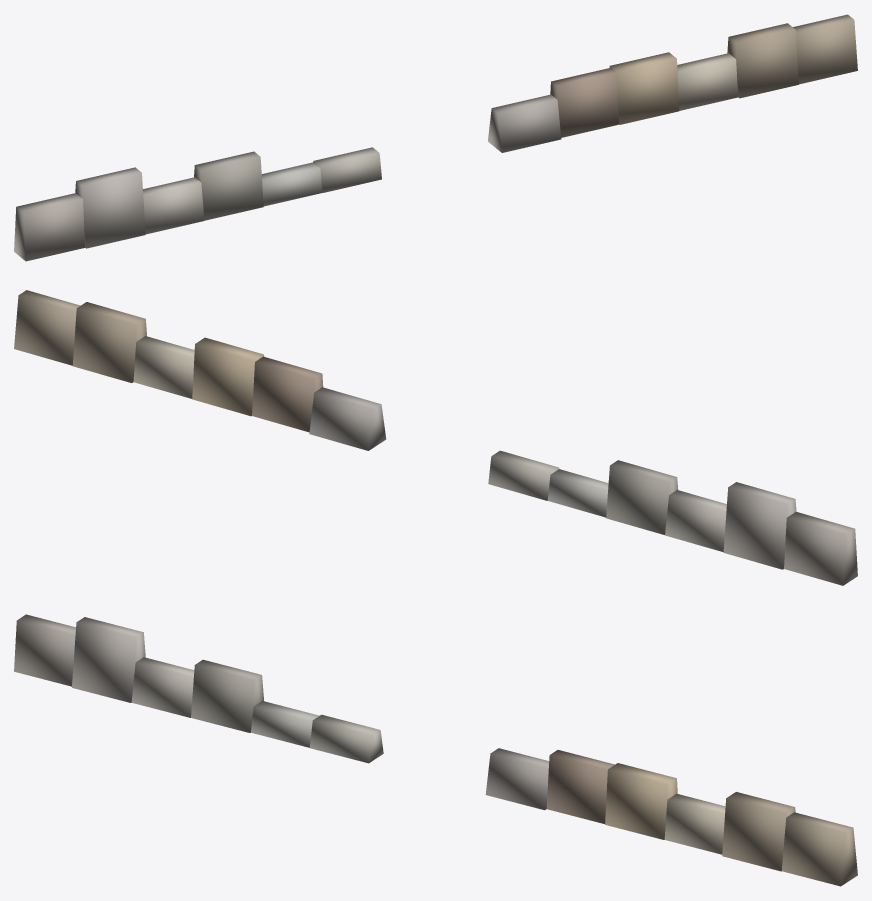
The model's file is farm_-7_9_collision.glb.
3 views of the same model, one above another, from view 1: azimuth 30°, elevation 25°; view 2: azimuth 150°, elevation 25°; view 3: azimuth 330°, elevation 25° (orthographic). The views are drawn at different scales.
Parts seen in each view (by area): view 1: geometry_0; view 2: geometry_0; view 3: geometry_0.
Part boxes in pixels (x1,y1,x2,y2): geometry_0: (14, 14, 857, 261); geometry_0: (14, 290, 857, 585); geometry_0: (14, 614, 857, 886).
Size of the model in its own units: 22.19 by 1.65 by 1.76.
